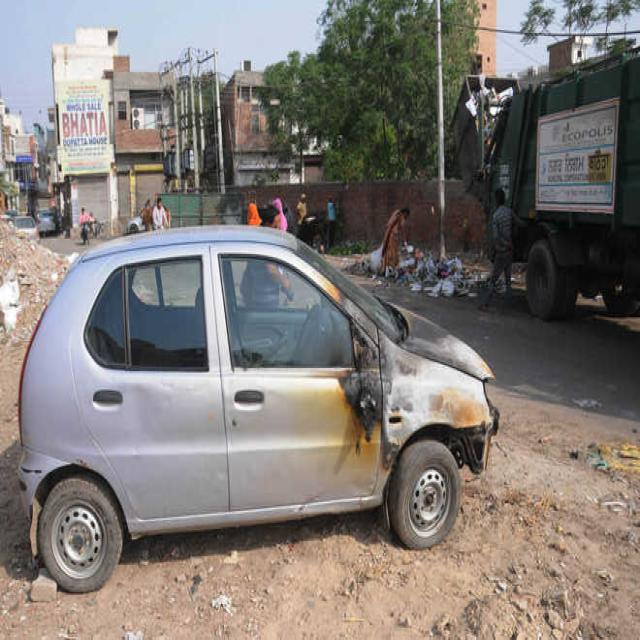accident: (19, 227, 499, 592)
truck: (454, 48, 640, 318)
